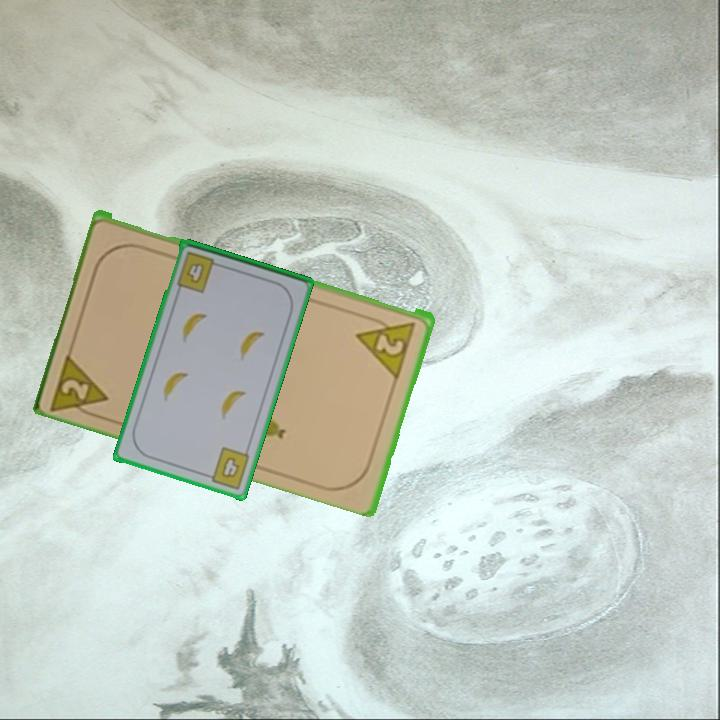2p: (47, 347, 113, 422), (353, 313, 419, 379)
4b: (201, 443, 253, 492), (173, 248, 224, 296)
